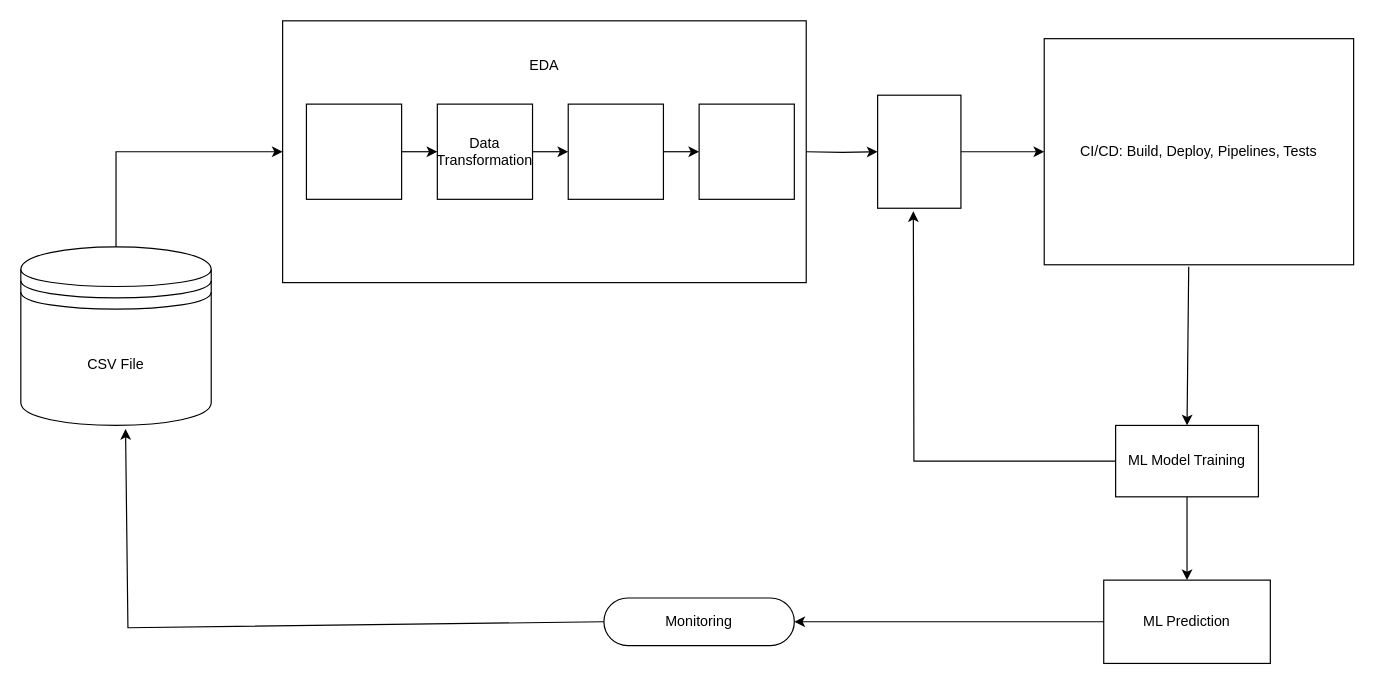
Image size: 1374x684. Some labels were removed from this diagram. The centre of each missing label's shape, as x and y in pixels:
Data Analysis: (x=353, y=151)
ML Model Serving: (x=918, y=151)
Serving: (x=746, y=151)
Storage: (x=615, y=151)
